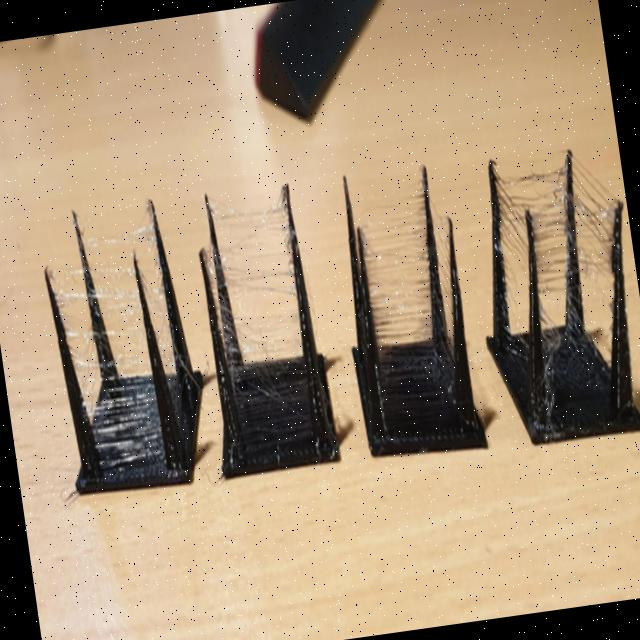stringing: (54, 270, 165, 467), (210, 191, 301, 365), (80, 211, 176, 374), (350, 176, 433, 343), (205, 233, 253, 448), (137, 215, 182, 428), (495, 156, 567, 281), (51, 251, 100, 420), (536, 208, 614, 297), (574, 156, 616, 275), (428, 189, 455, 359), (542, 309, 563, 415), (502, 245, 515, 335)
